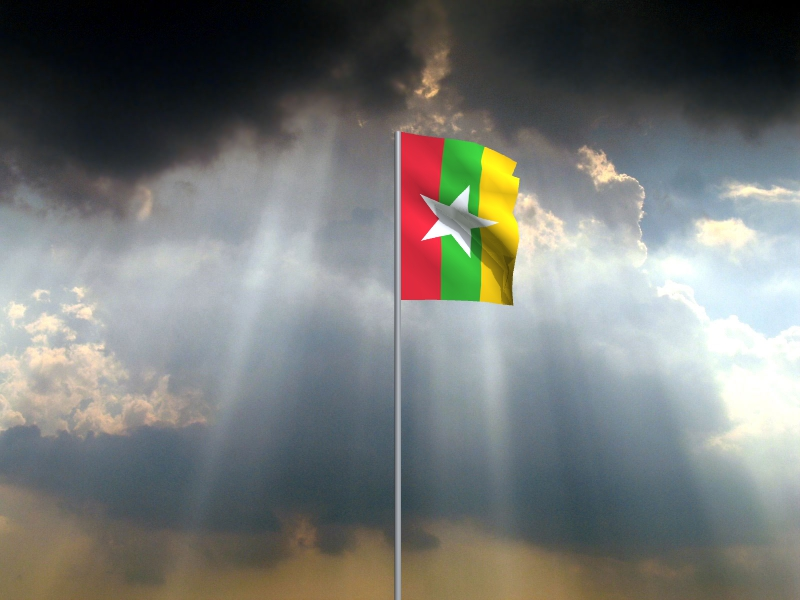mm: (402, 133, 521, 307)
